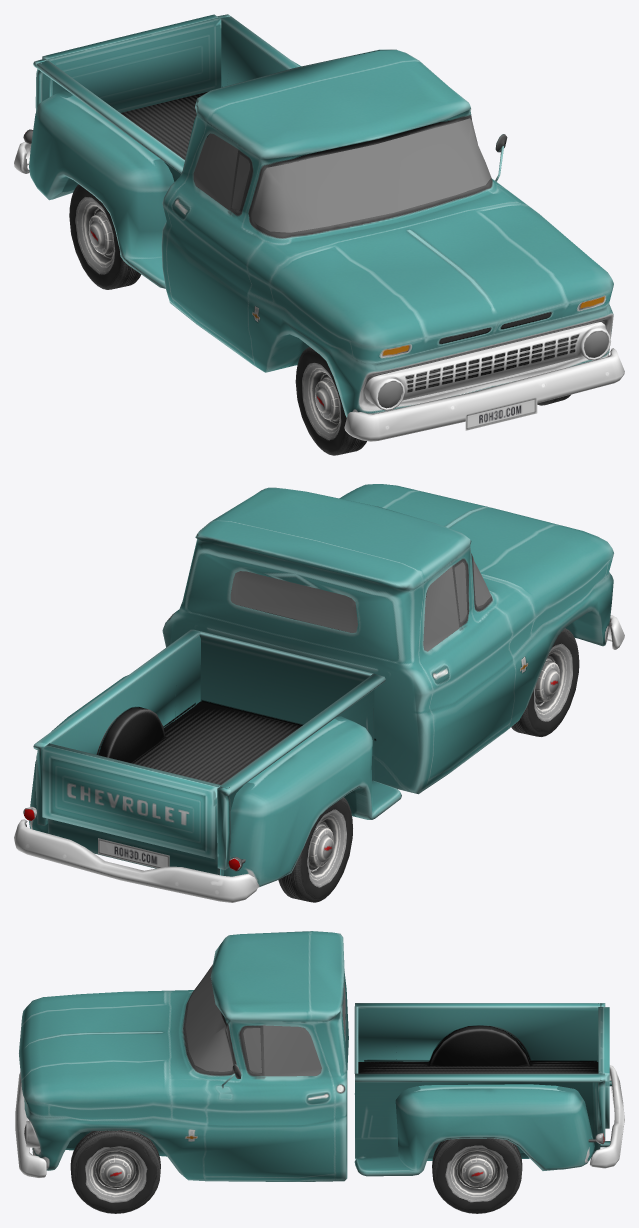
The model's file is chevrolet-low-poly.glb.
3 renders of one model, top to bottom at view 1: azimuth 30°, elevation 25°; view 2: azimuth 150°, elevation 25°; view 3: azimuth 270°, elevation 25°, orthographic. The views are drawn at different scales.
Parts seen in each view (by area): view 1: Object_4, Object_2, Object_3; view 2: Object_4, Object_3, Object_2; view 3: Object_4, Object_3, Object_2.
Boxes of the visible parts, left/top/right/bottom form: Object_4: left=14, top=14, right=624, bottom=441; Object_2: left=25, top=118, right=608, bottom=408; Object_3: left=69, top=134, right=570, bottom=455; Object_4: left=14, top=484, right=624, bottom=902; Object_3: left=253, top=590, right=579, bottom=902; Object_2: left=24, top=556, right=491, bottom=870; Object_4: left=15, top=931, right=624, bottom=1181; Object_3: left=70, top=1059, right=522, bottom=1213; Object_2: left=24, top=964, right=604, bottom=1143.
Size of the model in its own units: 209 by 178 by 486.
Materials: 3 (3 with a texture image).
